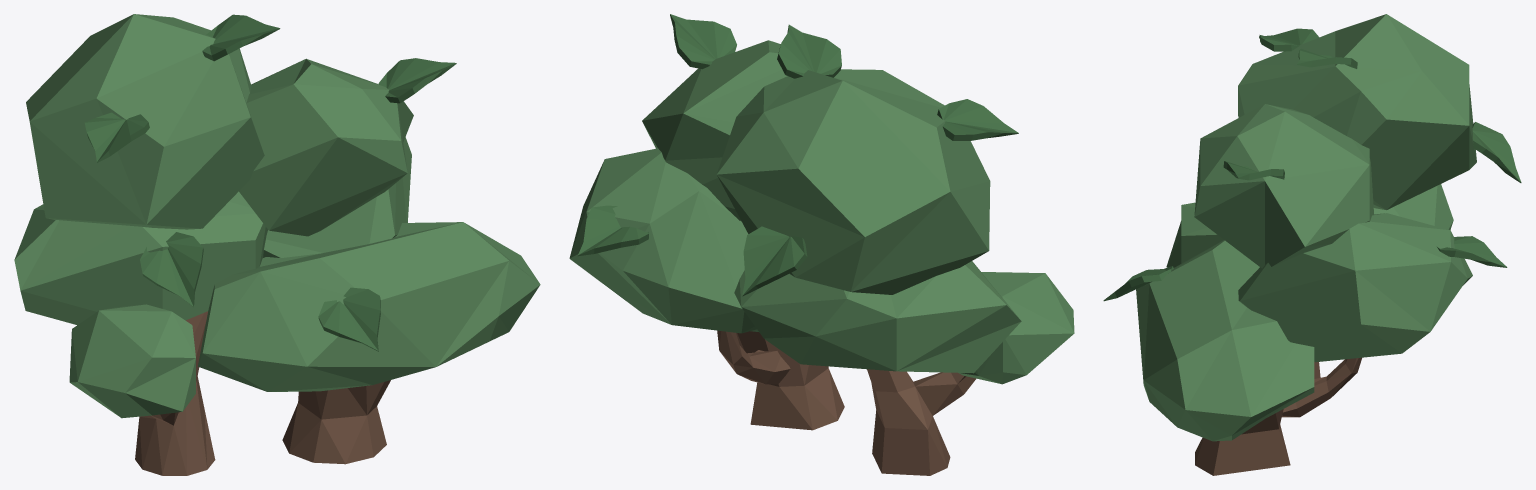
File: bush_1.glb
3 renders of one model, left to right at view 1: azimuth 30°, elevation 25°; view 2: azimuth 150°, elevation 25°; view 3: azimuth 270°, elevation 25°, orthographic. The views are drawn at different scales.
Visible parts, largest first — view 1: bush_1; view 2: bush_1; view 3: bush_1.
Boxes of the visible parts, box(x1,y1,x2,y2) form: bush_1: box(14, 14, 540, 475); bush_1: box(569, 14, 1074, 475); bush_1: box(1103, 14, 1521, 475).
Bounding box in the file's own units: 1.55 × 1.3 × 1.27.
1 material, 1 textured.
